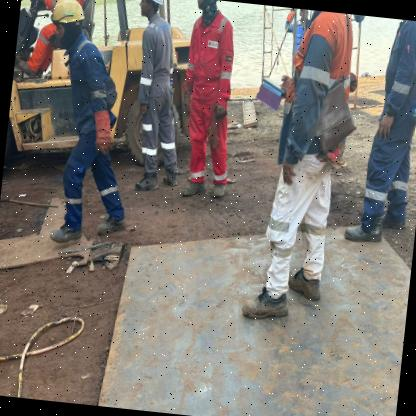bota: (238, 284, 288, 325), (287, 265, 327, 302), (344, 212, 385, 244), (378, 210, 408, 236), (49, 222, 84, 244), (96, 216, 128, 237), (177, 178, 208, 198), (13, 57, 38, 80), (157, 167, 181, 188), (134, 173, 160, 191), (210, 177, 228, 197)
